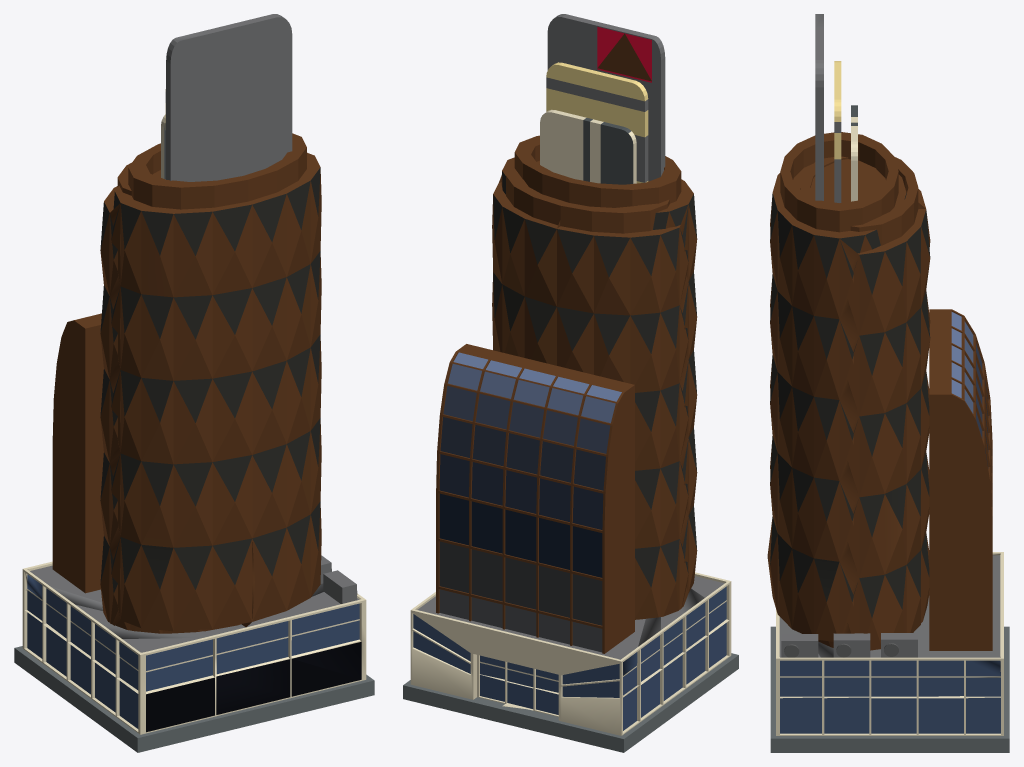
The model's file is Bank_Building.glb.
The picture shows the model from 3 angles, left to right: view 1: azimuth 30°, elevation 25°; view 2: azimuth 150°, elevation 25°; view 3: azimuth 270°, elevation 25°; orthographic projection. The views are drawn at different scales.
Visible parts, largest first — view 1: bank building; view 2: bank building; view 3: bank building.
Boxes of the visible parts, bbox=[...] form: bank building: bbox=[14, 14, 374, 752]; bank building: bbox=[403, 14, 738, 752]; bank building: bbox=[767, 14, 1009, 752].
Size of the model in its own units: 1.95 by 5.33 by 1.78.
1 material, 1 textured.
